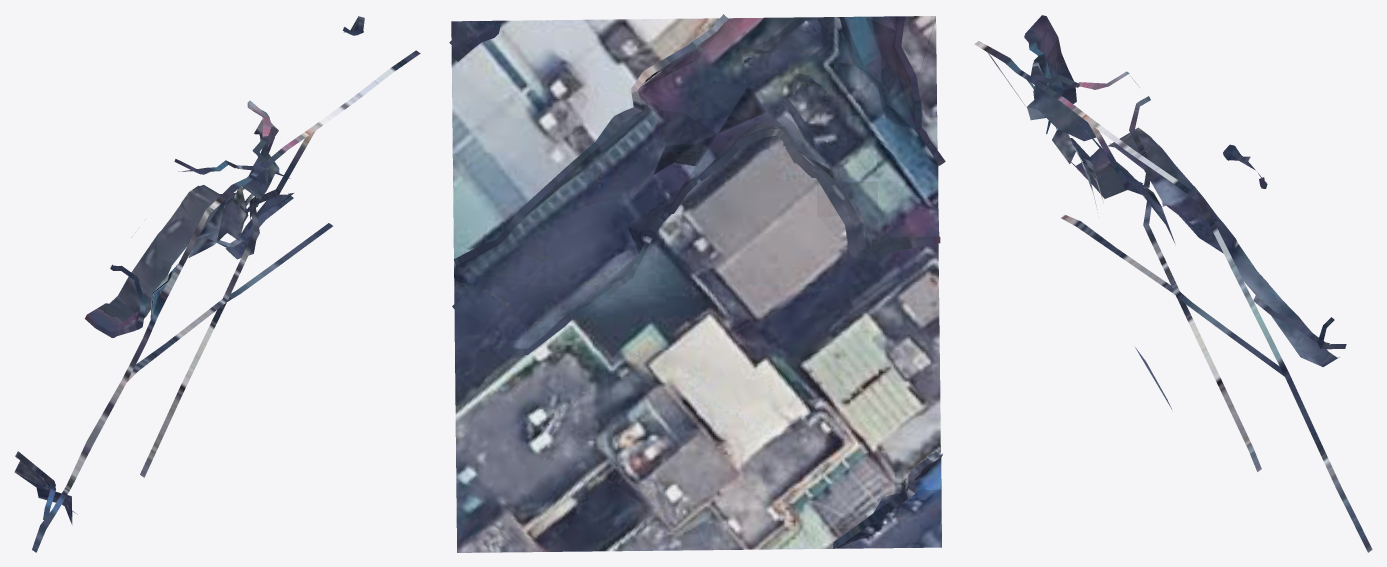
3 renders of one model, left to right at view 1: azimuth 30°, elevation 25°; view 2: azimuth 150°, elevation 25°; view 3: azimuth 270°, elevation 25°, orthographic. The views are drawn at different scales.
Bounding box in the file's own units: 39.29 × 37.36 × 31.73.
1 material, 1 textured.
